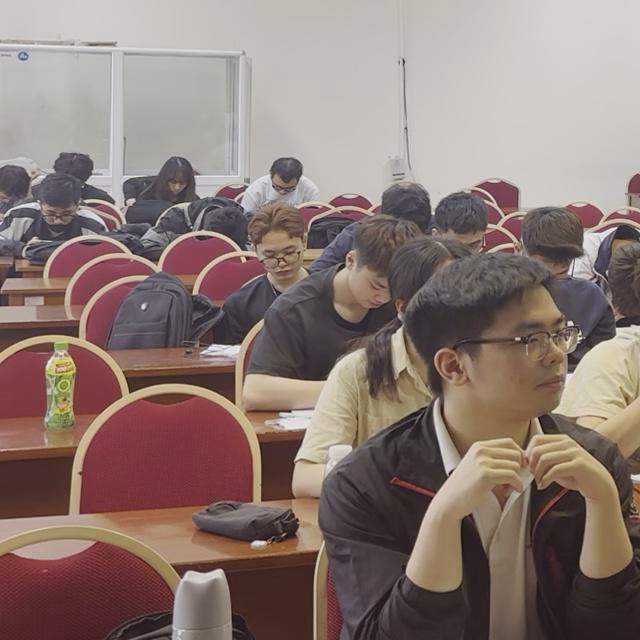Looking away: (260, 233, 302, 278), (352, 266, 393, 310), (44, 205, 75, 234), (273, 173, 295, 195), (169, 174, 185, 194)
Looking forward: (484, 299, 567, 414)
